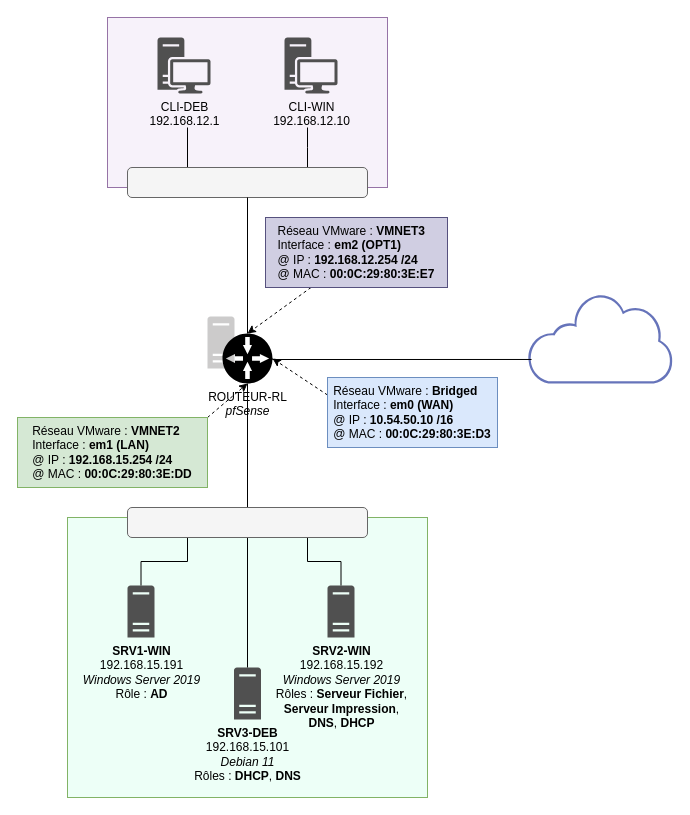
Image size: 690x815. Some labels were removed from this diagram. Here are the shapes that lost their labels. From the top down, the box of each, then its label:
(126, 166, 368, 198): LAN-CLIENTS 192.168.12.0 /24
(527, 293, 672, 383): WAN Réseau :10.54.0.0 /16 Passerelle : 10.54.255.254
(126, 506, 368, 538): LAN-SERVEURS 192.168.15.0 /24
